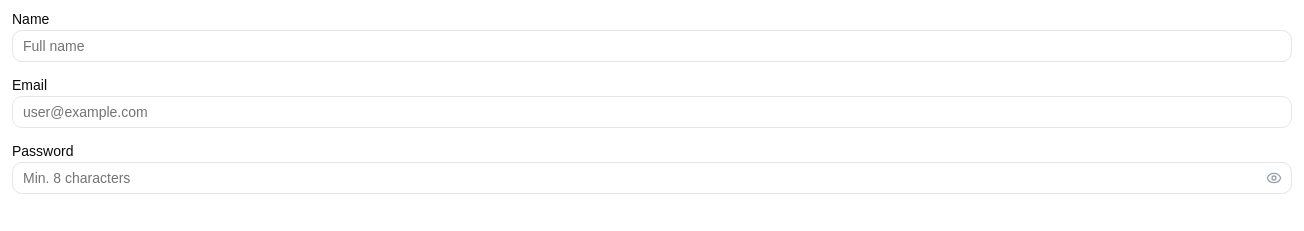
it: UserForm › name validation › shows required error when name is cleared after being touched
This screenshot has width=1304, height=231.
Type "abc" into the field labelled "Name". click: (652, 46)
box: [12,30,1292,62]
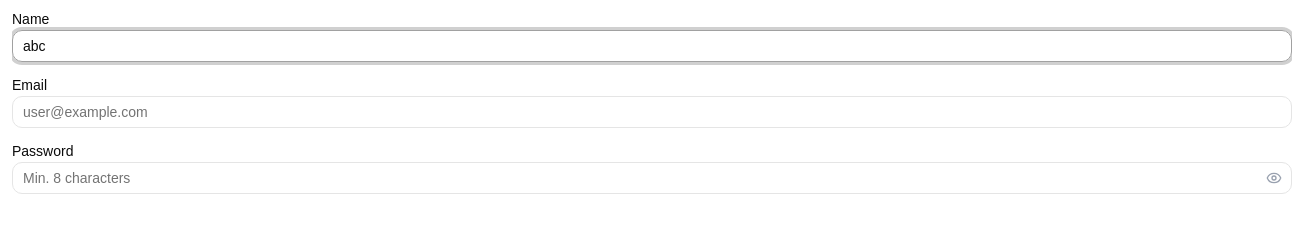
Clear the field labelled "Name". click: (652, 46)
box: [12,30,1292,62]
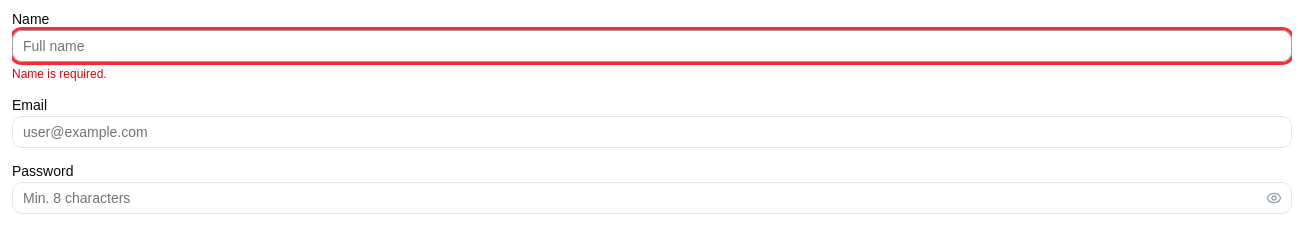
Now the text "Name is required." is shown, box [12,67,107,81]
